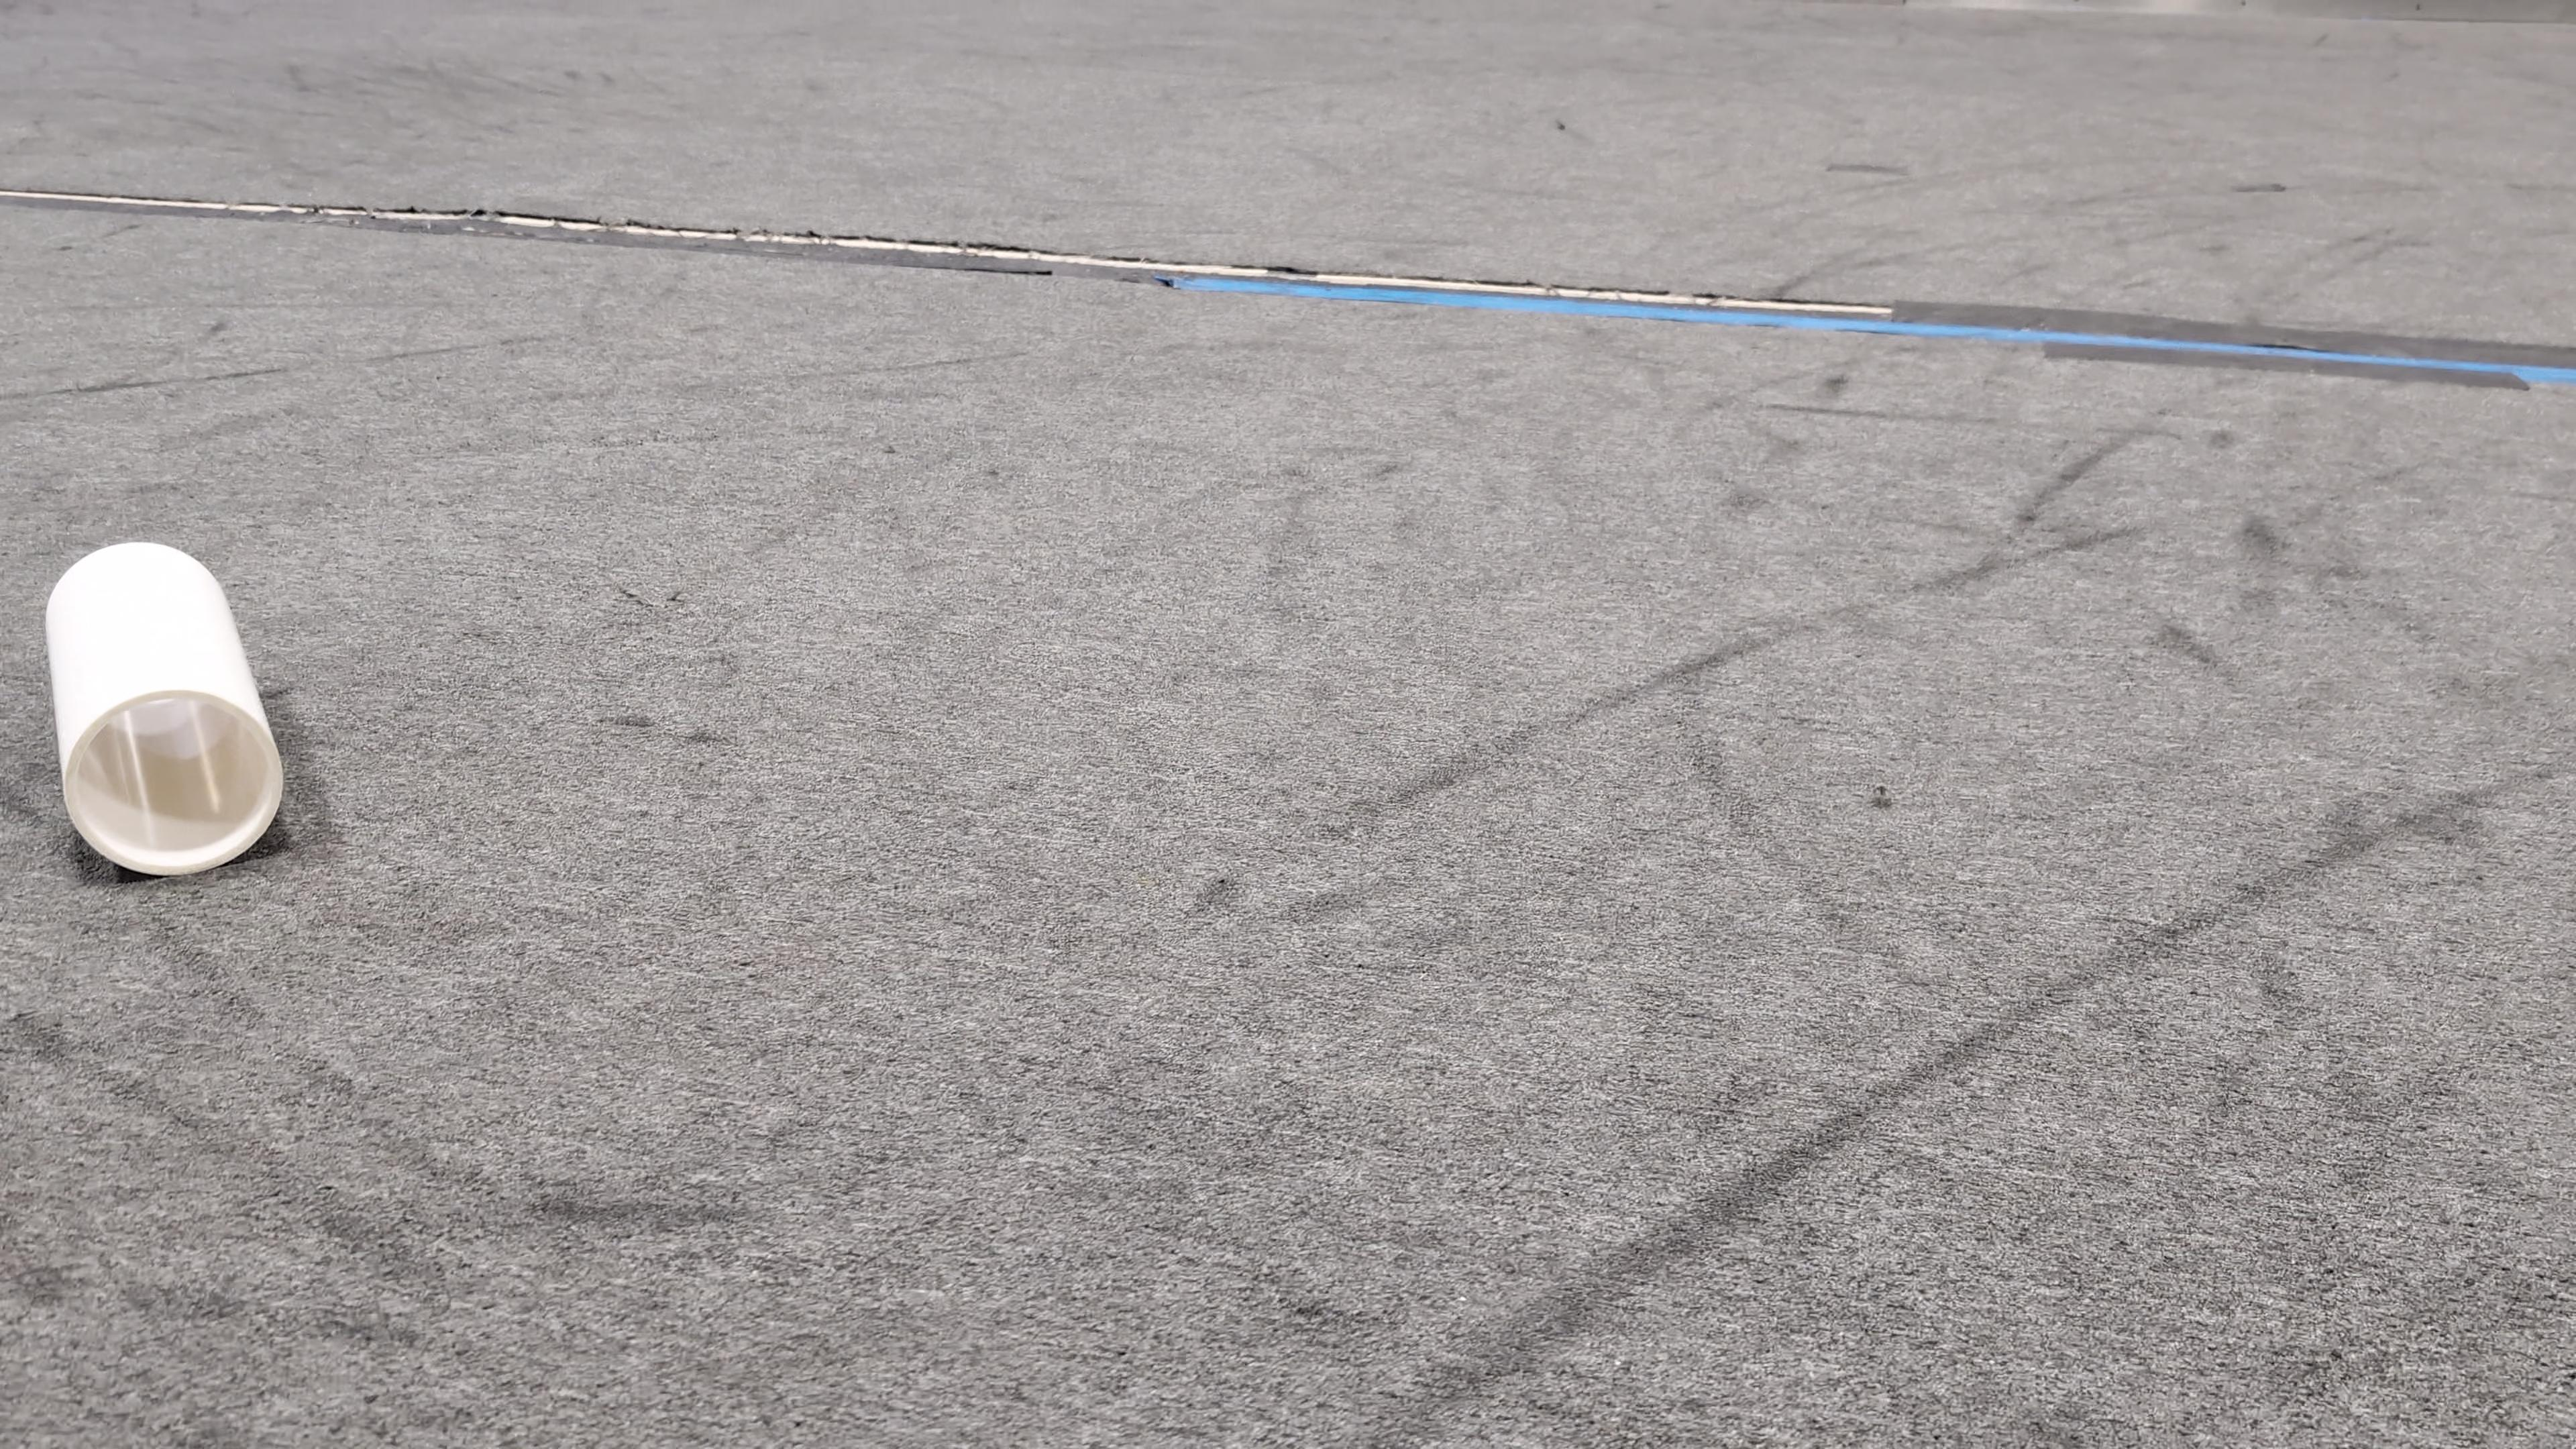coral: (41, 538, 287, 876)
